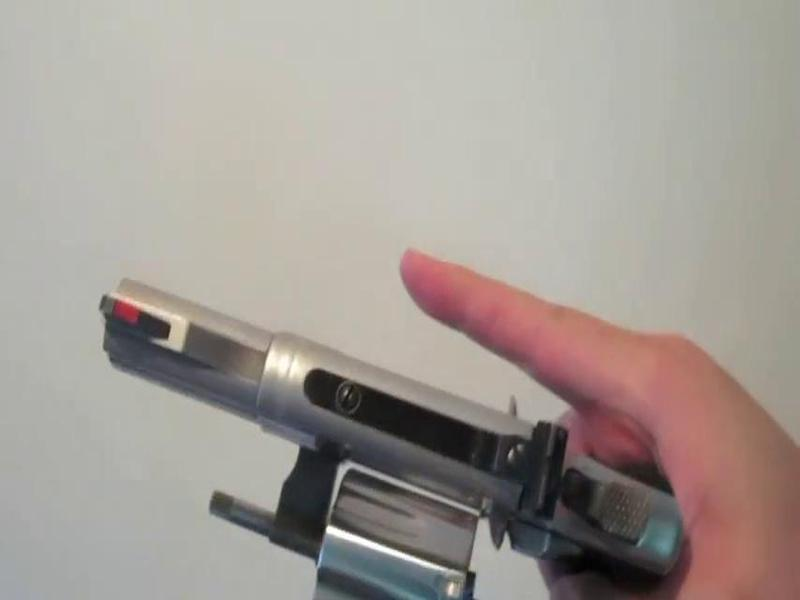Revolver: (88, 265, 720, 600)
